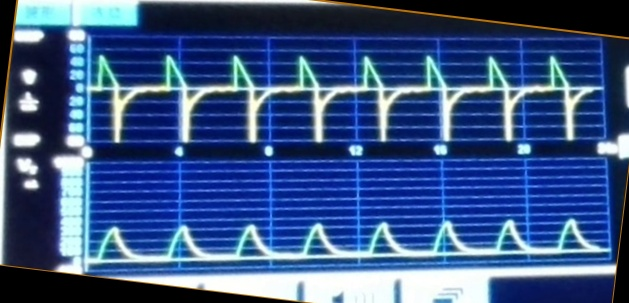Normal Flow: (91, 42, 593, 143)
Normal Volume: (91, 201, 606, 265)
